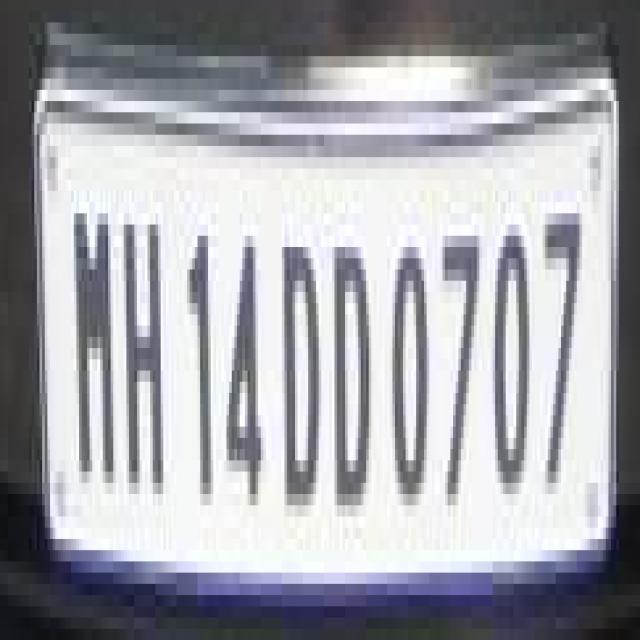license_plate: (45, 101, 616, 629)
